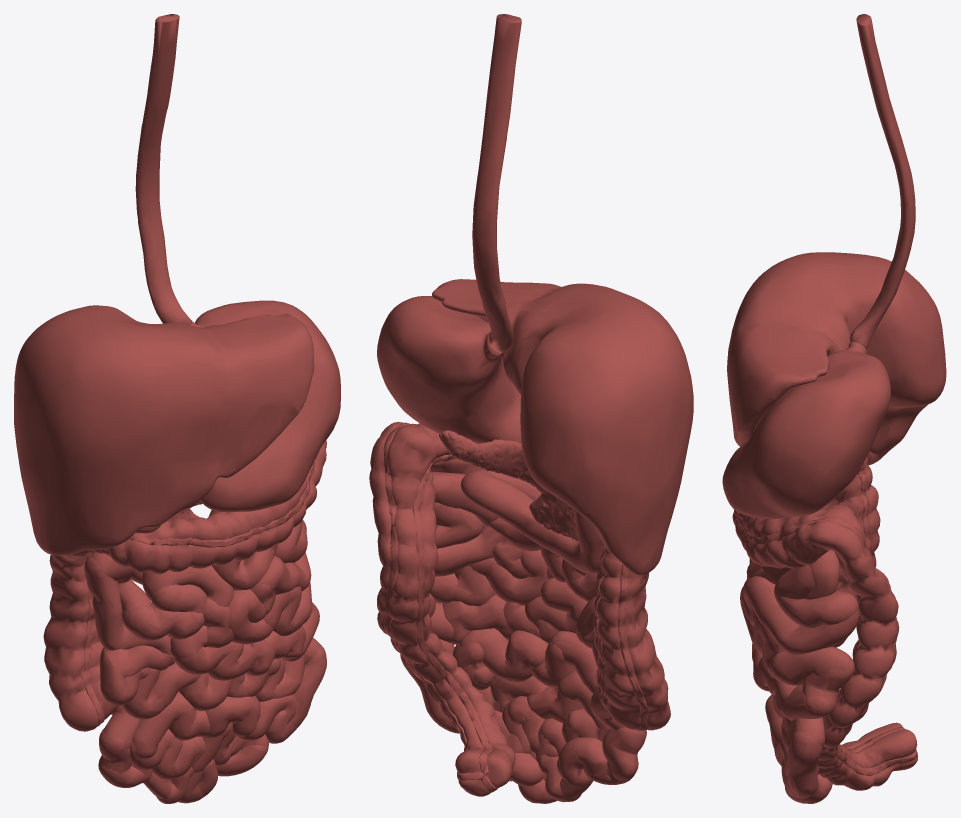
File: digestive.glb
The picture shows the model from 3 angles, left to right: view 1: azimuth 30°, elevation 25°; view 2: azimuth 150°, elevation 25°; view 3: azimuth 270°, elevation 25°; orthographic projection. The views are drawn at different scales.
Visible parts, largest first — view 1: FMA7197, FMA7208, FMA7207, FMA14543nsn, FMA7148, FMA7131, FMA76892, FMA76893; view 2: FMA7197, FMA14543nsn, FMA7208, FMA7207, FMA7148, FMA7131, FMA7206, FMA7198nsn, FMA76892, FMA76891; view 3: FMA7197, FMA7148, FMA14543nsn, FMA7207, FMA7131, FMA7208, FMA76892, FMA76891.
Part boxes in pixels (x1,y1,x2,y2): FMA7197: [14, 305, 314, 555]; FMA7208: [98, 638, 326, 803]; FMA7207: [84, 519, 319, 680]; FMA14543nsn: [43, 440, 326, 731]; FMA7148: [190, 300, 340, 512]; FMA7131: [135, 14, 191, 324]; FMA76892: [50, 460, 315, 597]; FMA76893: [83, 550, 104, 726]; FMA7197: [432, 279, 693, 575]; FMA14543nsn: [369, 421, 670, 796]; FMA7208: [400, 628, 656, 803]; FMA7207: [427, 471, 649, 644]; FMA7148: [377, 296, 521, 443]; FMA7131: [472, 14, 521, 353]; FMA7206: [460, 468, 603, 573]; FMA7198nsn: [439, 430, 578, 540]; FMA76892: [383, 422, 648, 780]; FMA76891: [413, 454, 608, 773]; FMA7197: [727, 252, 946, 465]; FMA7148: [722, 341, 890, 518]; FMA14543nsn: [732, 457, 918, 790]; FMA7207: [740, 550, 859, 720]; FMA7131: [850, 14, 915, 349]; FMA7208: [765, 691, 832, 803]; FMA76892: [734, 509, 917, 775]; FMA76891: [833, 465, 904, 752].
Size of the model in its own units: 0.2322 by 0.5901 by 0.1531.
